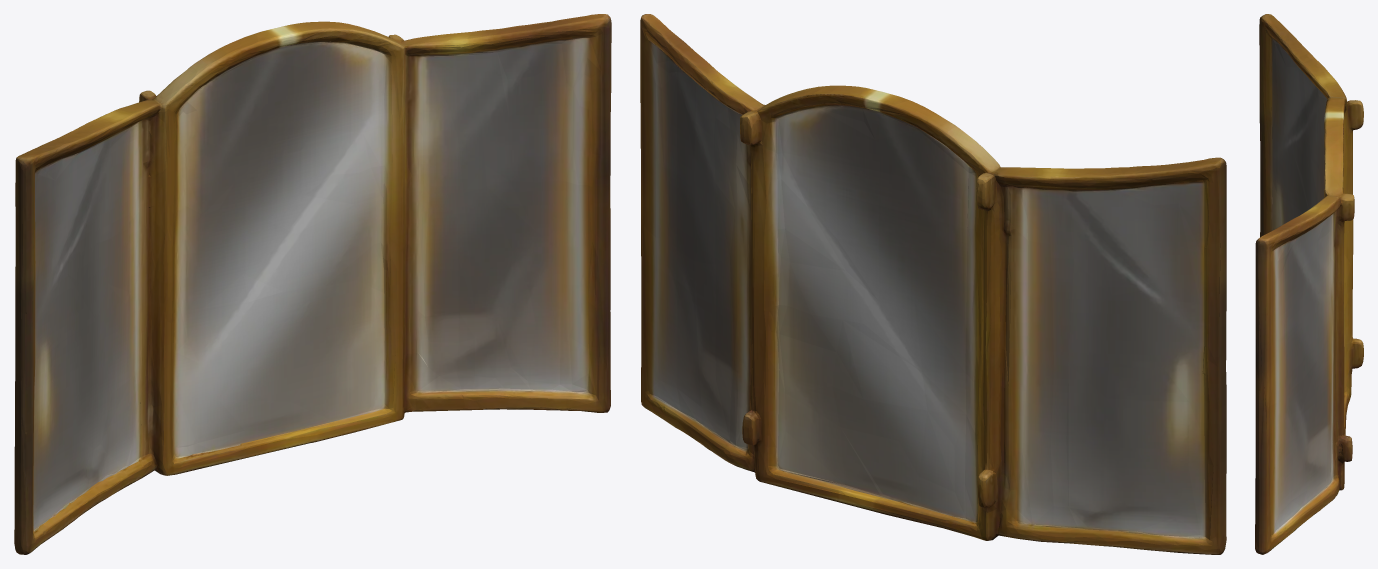
File: screen_folding_gold_2.glb
3 views of the same model, side by side, from view 1: azimuth 30°, elevation 25°; view 2: azimuth 150°, elevation 25°; view 3: azimuth 270°, elevation 25° (orthographic). The views are drawn at different scales.
Visible parts, largest first — view 1: geometry_0; view 2: geometry_0; view 3: geometry_0.
Part boxes in pixels (x1,y1,x2,y2): geometry_0: (14,14,611,554); geometry_0: (640,14,1226,554); geometry_0: (1255,14,1363,554).
Size of the model in its own units: 1 by 0.6782 by 0.2006.
Materials: 1 (1 with a texture image).
